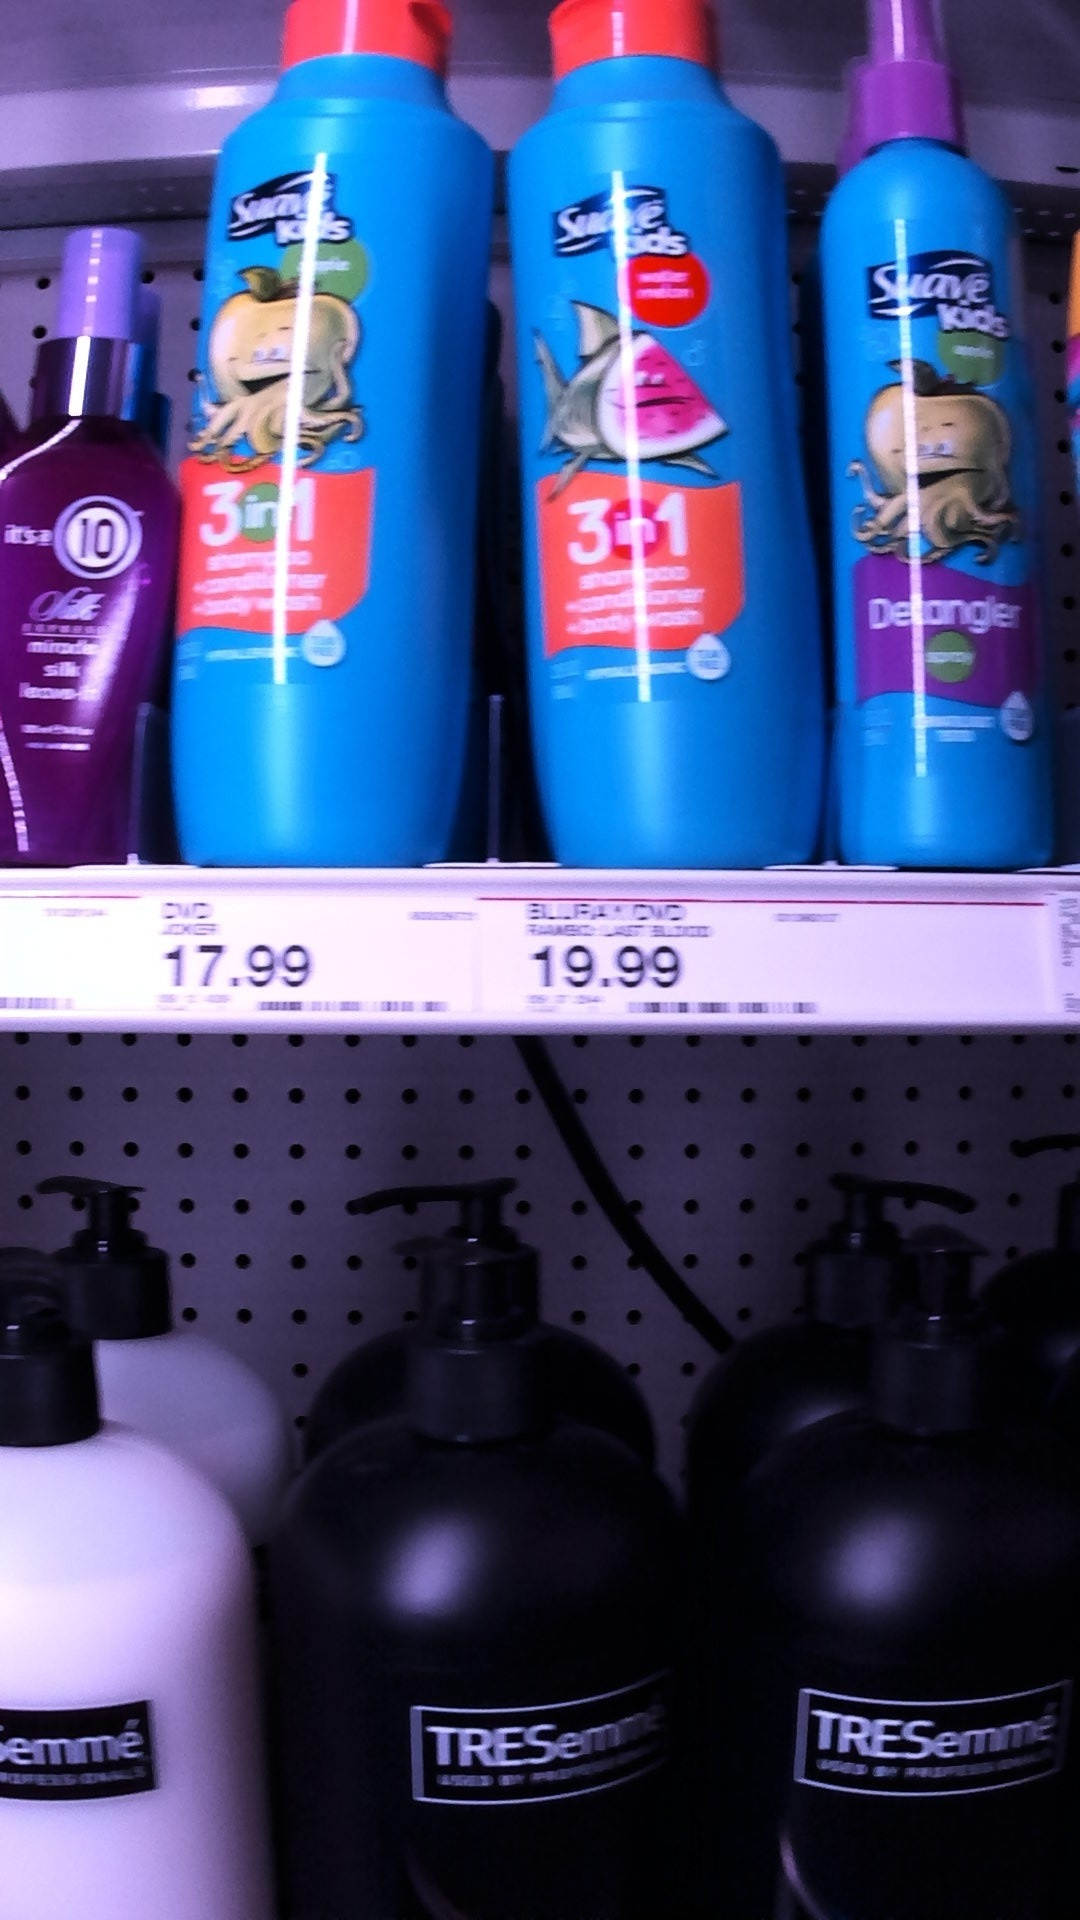ptag: (509, 882, 835, 1026), (156, 880, 465, 1026)
